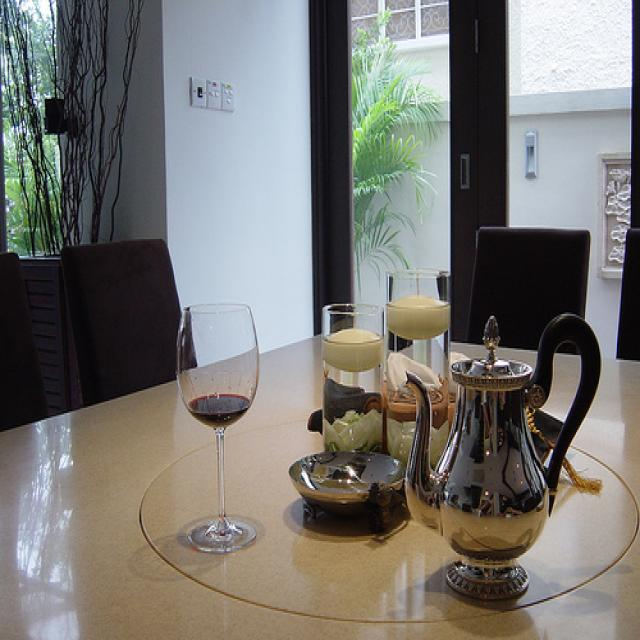chair: (59, 237, 198, 407), (463, 228, 591, 354), (1, 252, 52, 441)
diningtable: (1, 332, 640, 639)
